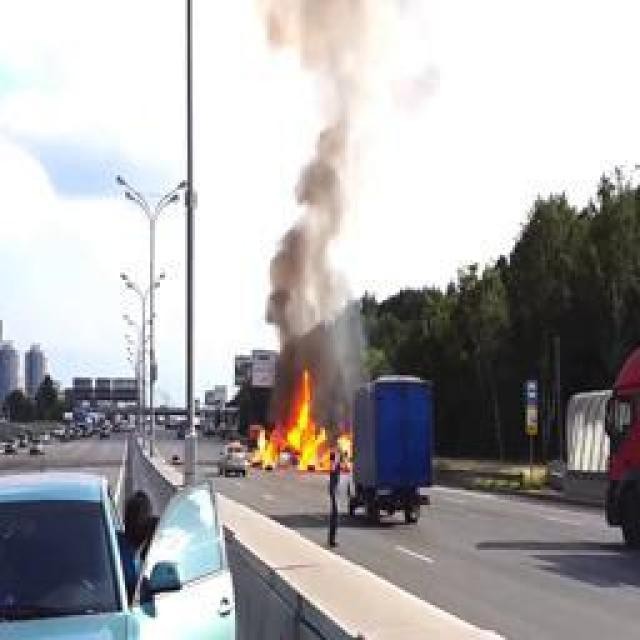Fire: (250, 370, 352, 472)
